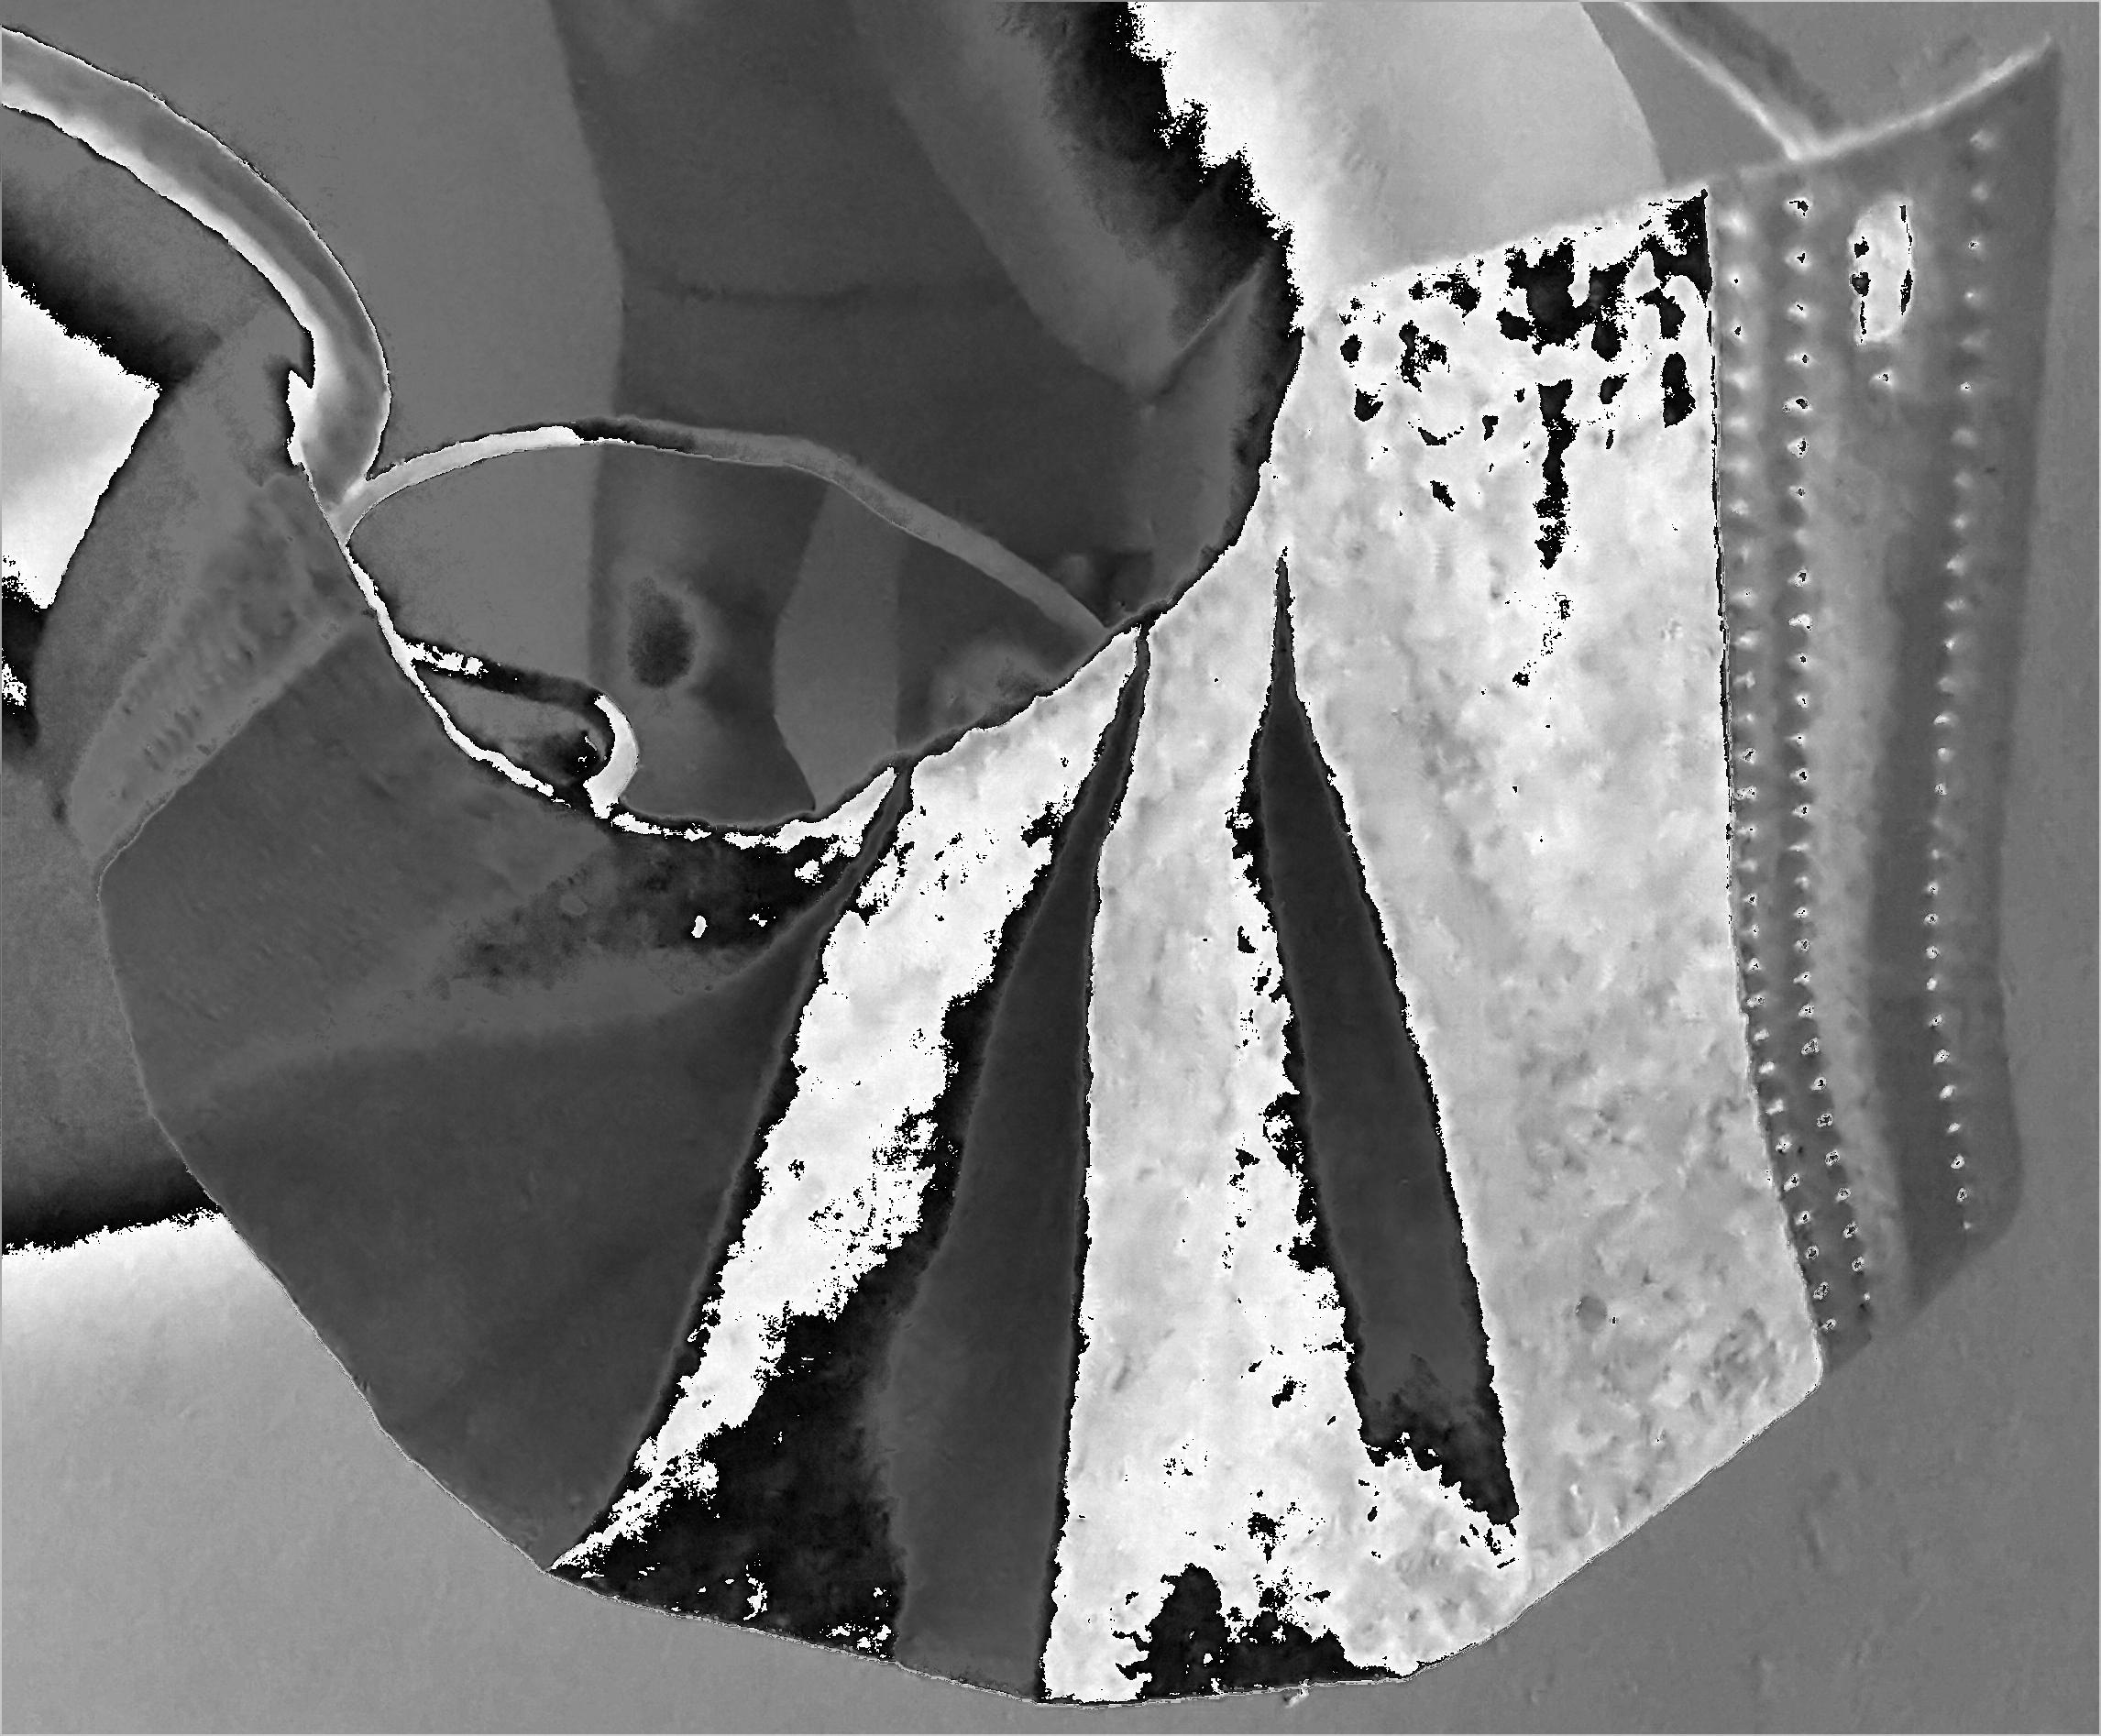Low GSM: (864, 478, 1707, 1701)
